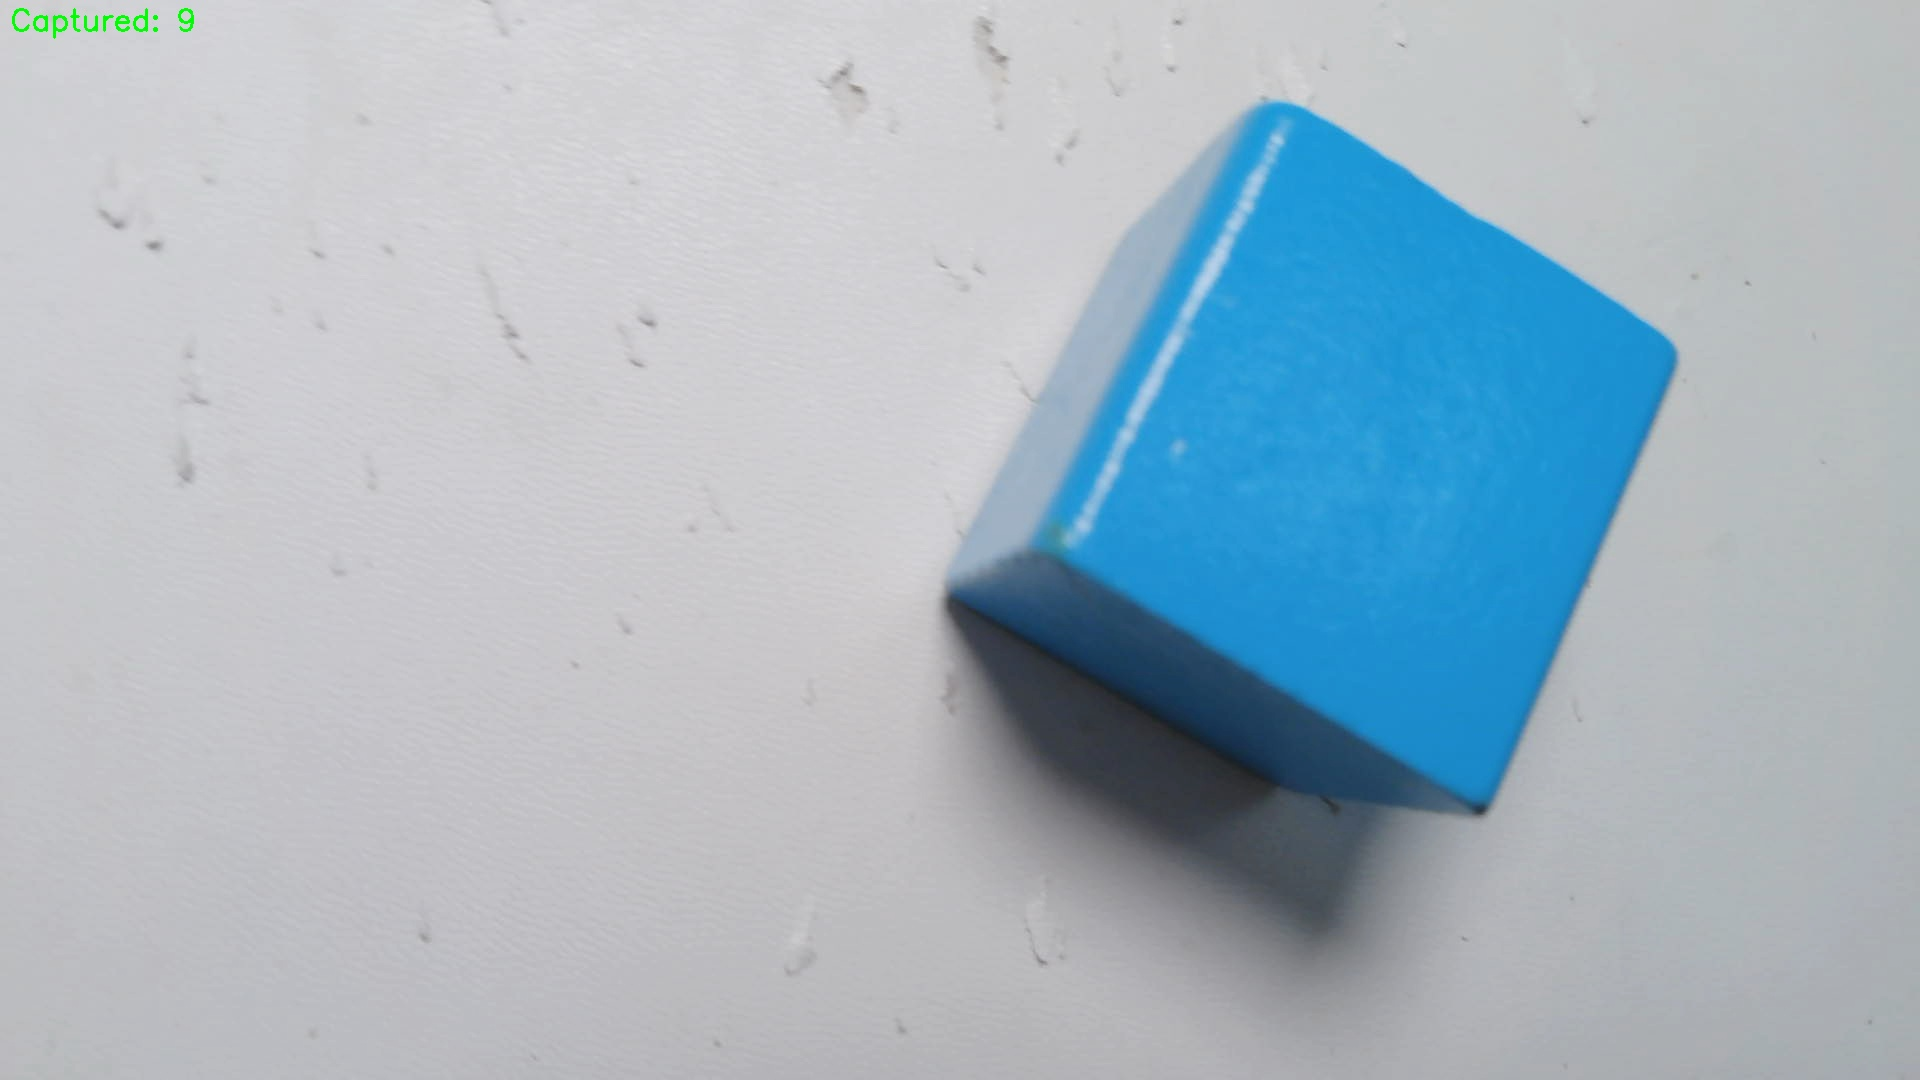blue: (952, 98, 1680, 822)
